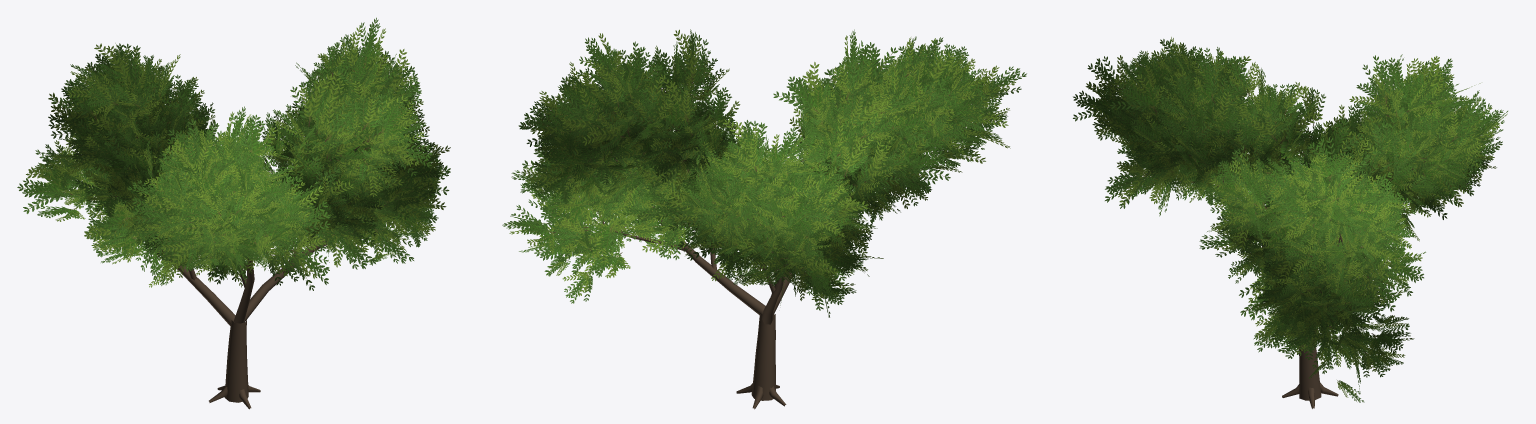
File: tree_neem_2.glb
3 renders of one model, left to right at view 1: azimuth 30°, elevation 25°; view 2: azimuth 150°, elevation 25°; view 3: azimuth 270°, elevation 25°, orthographic. The views are drawn at different scales.
Visible parts, largest first — view 1: Canopy, tree_neem_2; view 2: Canopy, tree_neem_2; view 3: Canopy, tree_neem_2.
Part boxes in pixels (x1,y1,x2,y2): Canopy: [17, 17, 450, 290]; tree_neem_2: [158, 142, 363, 409]; Canopy: [502, 29, 1026, 317]; tree_neem_2: [597, 141, 860, 409]; Canopy: [1073, 37, 1507, 402]; tree_neem_2: [1190, 158, 1413, 408].
Bounding box in the file's own units: 10.11 × 8.07 × 10.14.
Materials: 2 (1 with a texture image).
